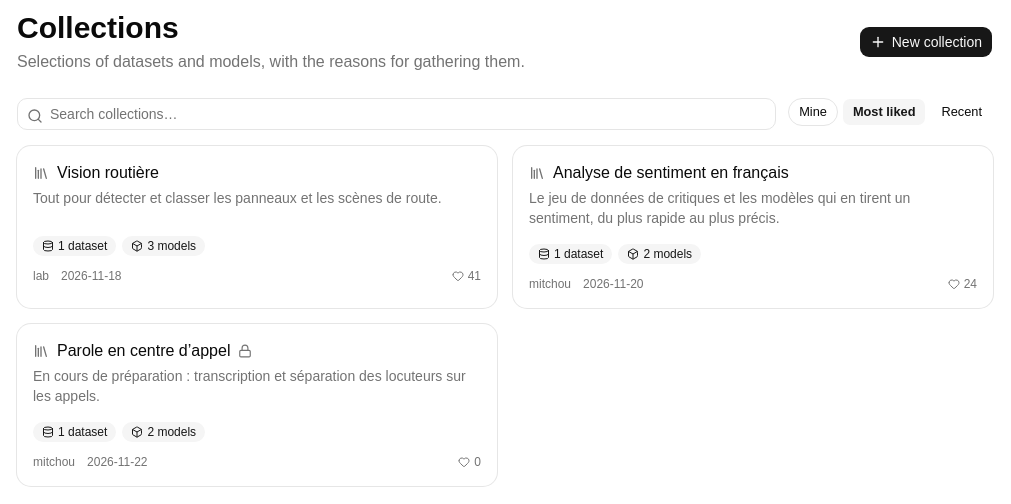
it: collections › lists the public collections and your private ones, and filters yours
Click the button "Mine".
click(813, 112)  # box [788, 98, 838, 126]
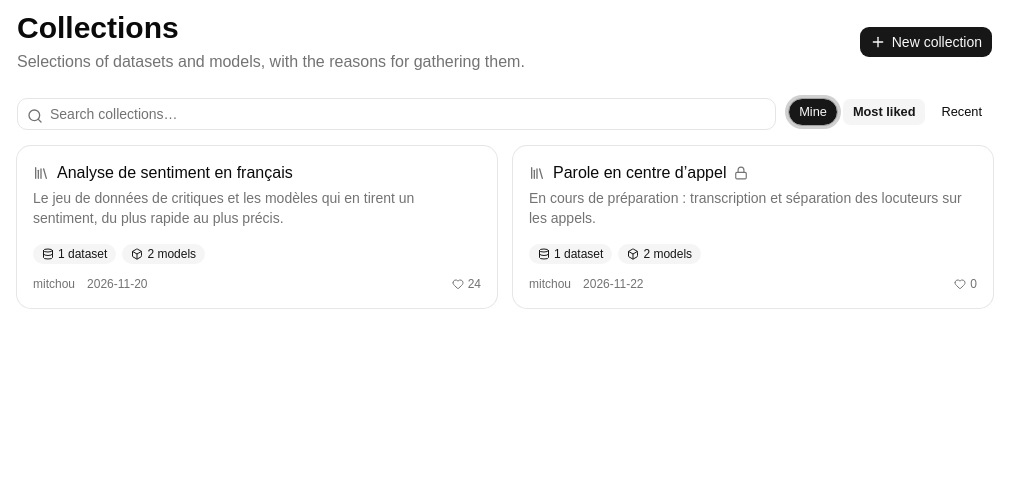
Now the text "Vision routière" is gone
